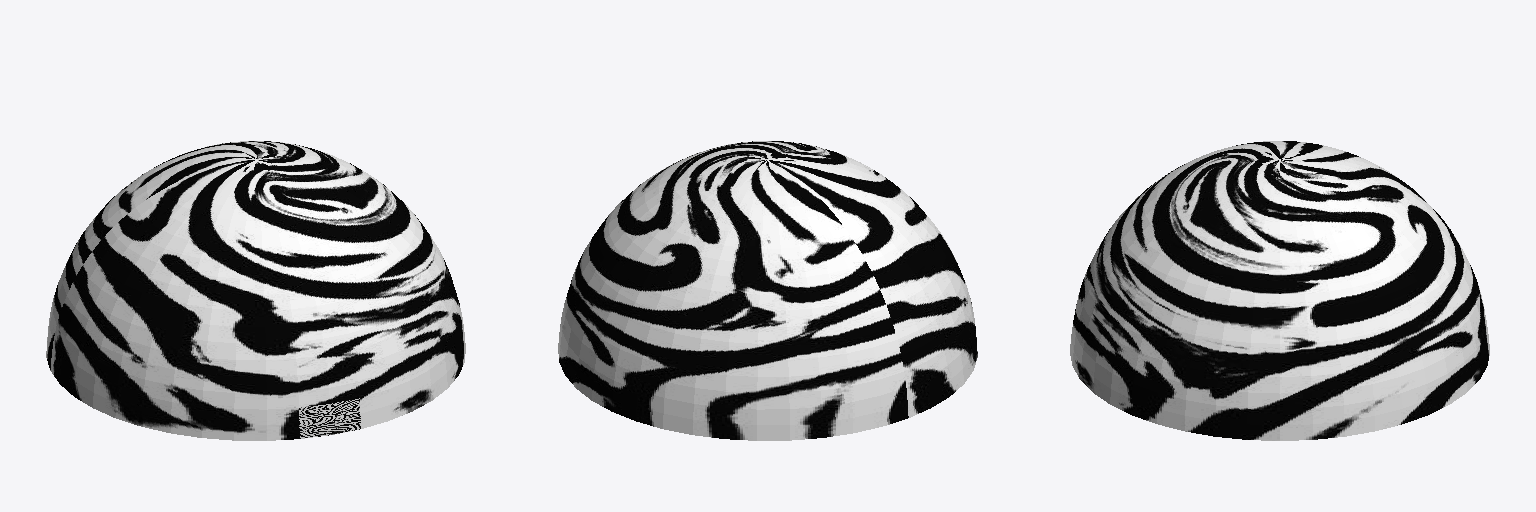
3 renders of one model, left to right at view 1: azimuth 30°, elevation 25°; view 2: azimuth 150°, elevation 25°; view 3: azimuth 270°, elevation 25°, orthographic.
Visible parts, largest first — view 1: pSphere4; view 2: pSphere4; view 3: pSphere4.
Part boxes in pixels (x1,y1,x2,y2): pSphere4: (46, 141, 465, 440); pSphere4: (558, 141, 977, 440); pSphere4: (1070, 141, 1489, 440).
Bounding box in the file's own units: 5.14 × 2.6 × 5.14.
1 materials, 1 textured.